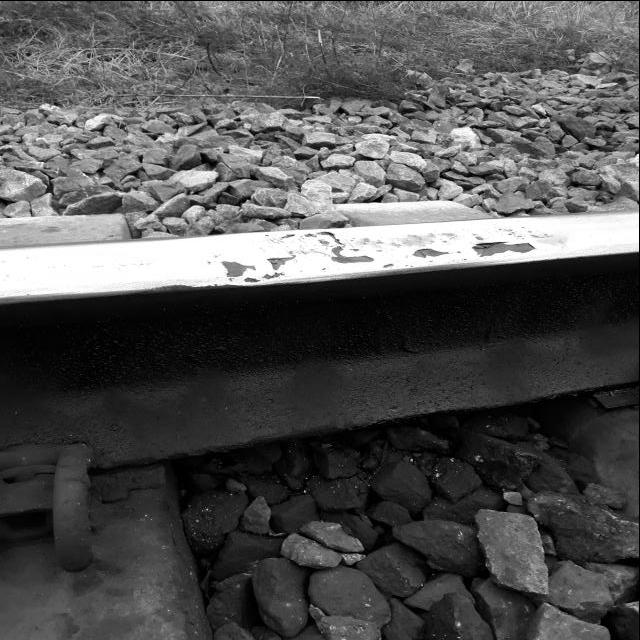broken_rail_medium: (315, 228, 377, 262), (472, 238, 538, 256), (221, 258, 261, 280), (498, 225, 554, 239), (268, 253, 298, 270), (411, 245, 453, 257), (261, 269, 288, 279), (280, 230, 302, 240), (472, 231, 486, 242), (305, 231, 321, 238), (315, 238, 331, 245), (243, 276, 261, 282), (382, 260, 395, 268), (348, 245, 360, 251), (456, 248, 462, 252)
